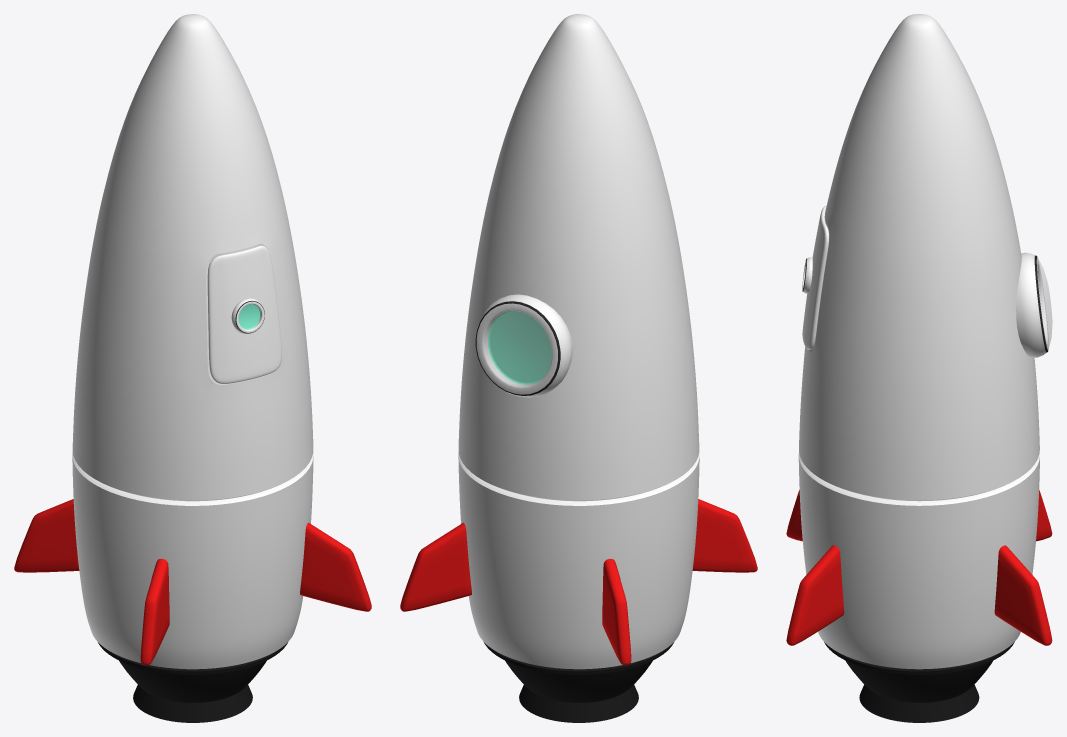
File: rocket.glb
3 views of the same model, side by side, from view 1: azimuth 30°, elevation 25°; view 2: azimuth 150°, elevation 25°; view 3: azimuth 270°, elevation 25° (orthographic).
Parts seen in each view (by area): view 1: Rocket body, Rocket fin, Rocket hatch window; view 2: Rocket body, Rocket fin, Rocket window, Rocket window glass; view 3: Rocket body, Rocket fin, Rocket window, Rocket window glass.
Boxes of the visible parts, <box> form: Rocket body: <box>72,14,313,722</box>; Rocket fin: <box>14,499,371,665</box>; Rocket hatch window: <box>231,298,264,333</box>; Rocket body: <box>458,14,699,722</box>; Rocket fin: <box>400,499,757,665</box>; Rocket window: <box>475,294,572,397</box>; Rocket window glass: <box>477,304,557,394</box>; Rocket body: <box>798,14,1039,722</box>; Rocket fin: <box>786,490,1052,645</box>; Rocket window: <box>1016,252,1048,357</box>; Rocket window glass: <box>1037,258,1052,349</box>.
Size of the model in its own units: 1.88 by 5.3 by 1.88.
4 materials, 2 textured.
